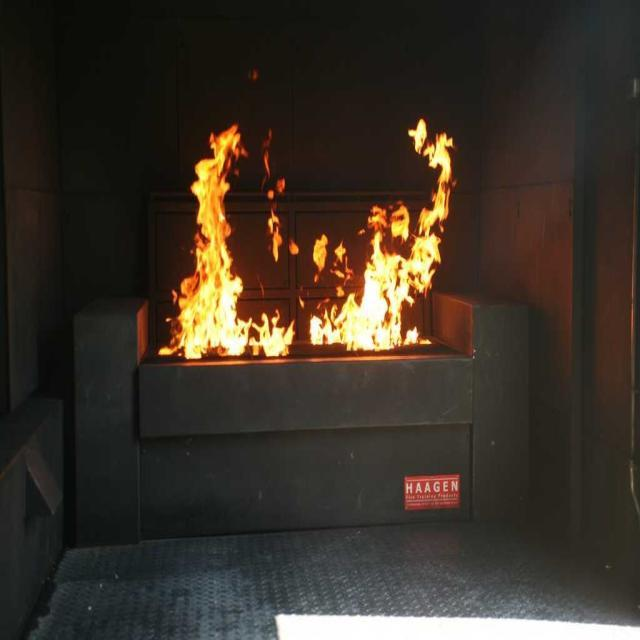Fire: (176, 274, 243, 354), (351, 262, 406, 348), (200, 153, 227, 270)
